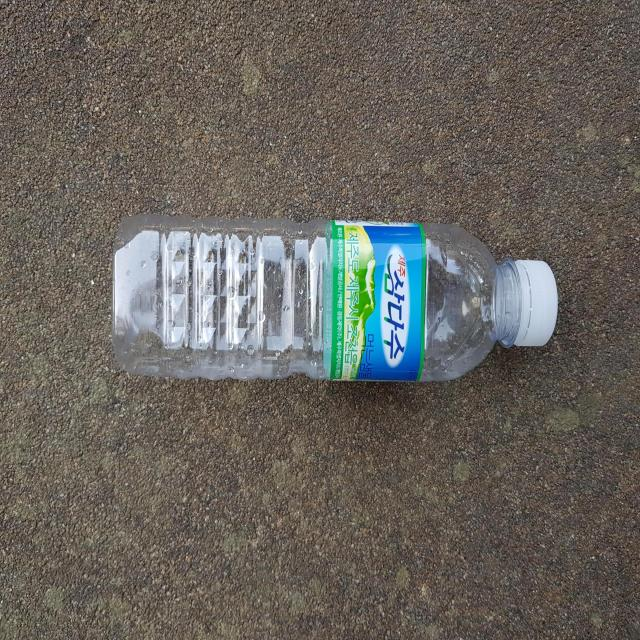plastic: (112, 215, 559, 381)
